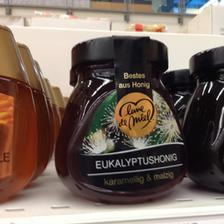Honig: (60, 35, 192, 199)
